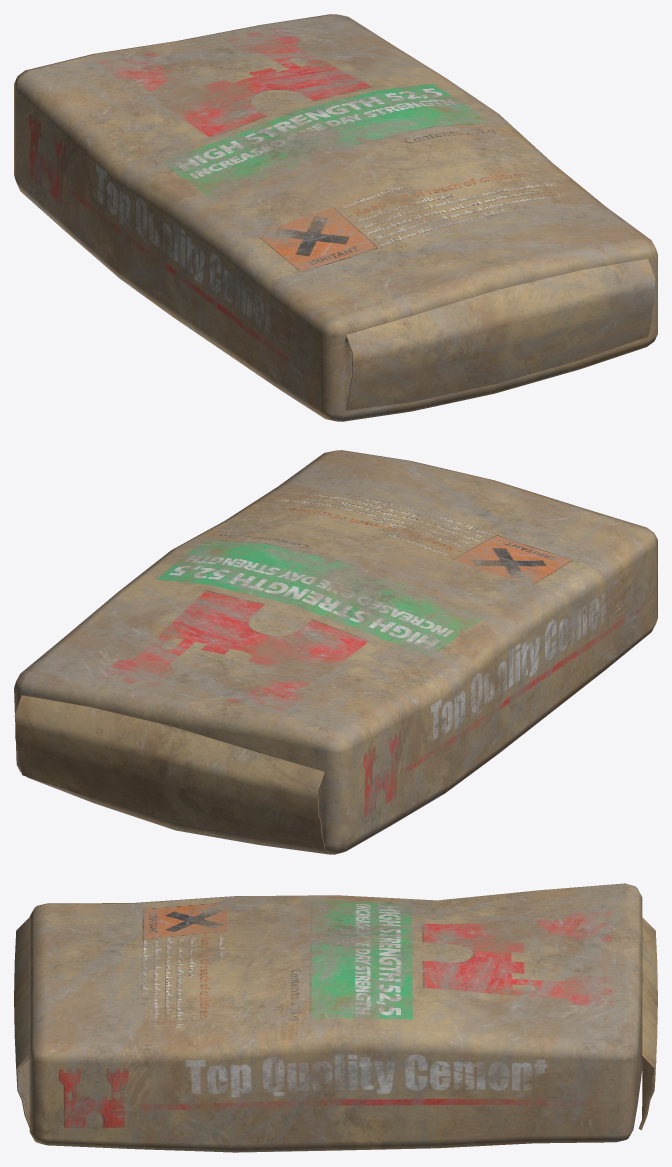
File: SM_Cement_Bag.glb
The picture shows the model from 3 angles, top to bottom: view 1: azimuth 30°, elevation 25°; view 2: azimuth 150°, elevation 25°; view 3: azimuth 270°, elevation 25°; orthographic projection. The views are drawn at different scales.
Parts seen in each view (by area): view 1: SM_Cement_Bag; view 2: SM_Cement_Bag; view 3: SM_Cement_Bag.
Part boxes in pixels (x1,y1,x2,y2): SM_Cement_Bag: [14, 14, 657, 421]; SM_Cement_Bag: [14, 450, 657, 854]; SM_Cement_Bag: [14, 883, 657, 1152].
Bounding box in the file's own units: 0.3 × 0.1356 × 0.5253.
1 material, 1 textured.
